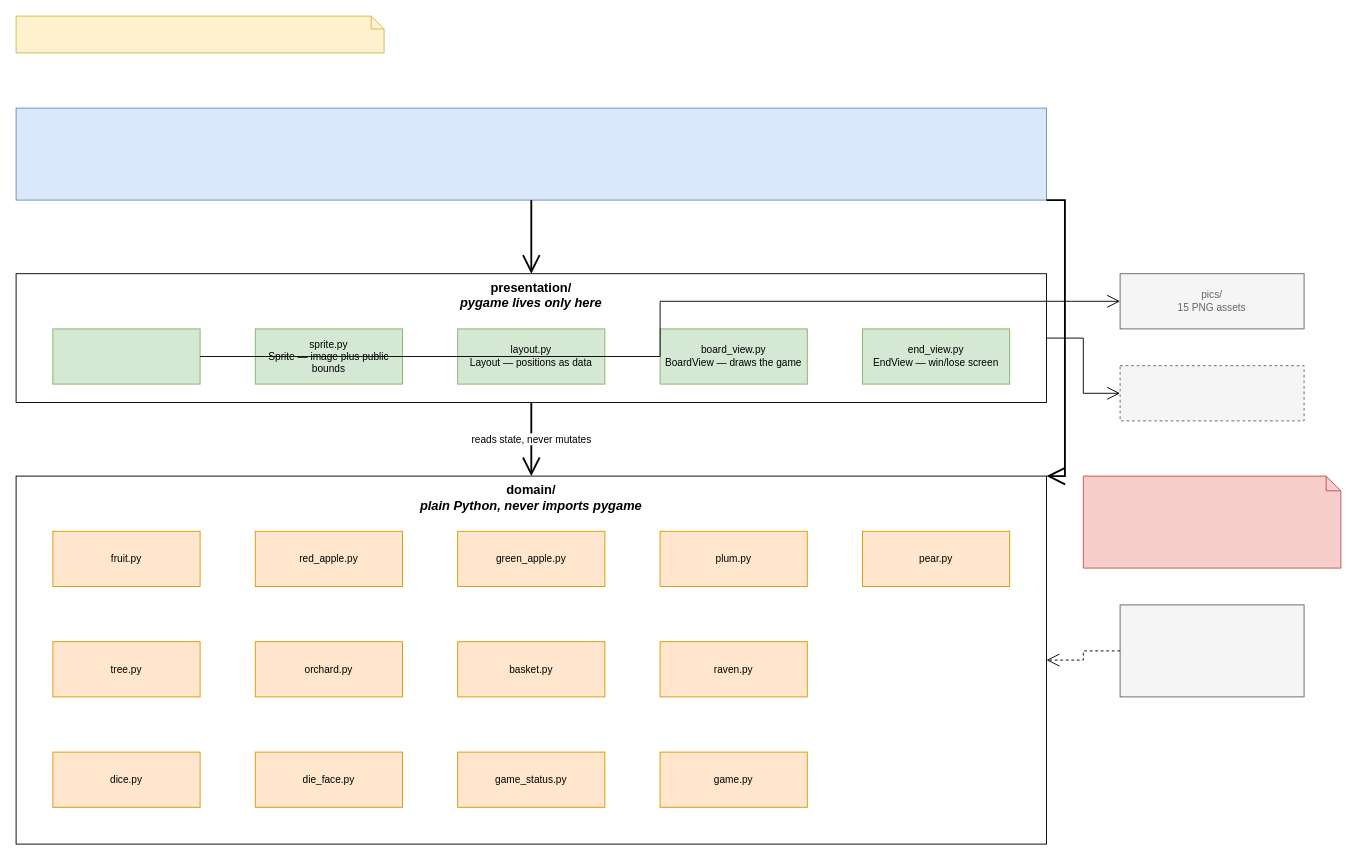
Image size: 1357x860. Some labels were removed from this diagram. Here are the shapes that lost their labels. From the top down, the centre of each, then its label:
[199,34]: Target architecture — proposed, not yet implemented
[530,153]: app.py Composition root: builds the world, owns the loop, routes input
[126,356]: asset_cache.py AssetCache — loads images and fonts once
[1211,393]: pygame / SDL2
[1211,521]: Layer rule: no file under domain/ imports pygame — enforced by an AST test
[1211,650]: tests/ pytest, no display required
